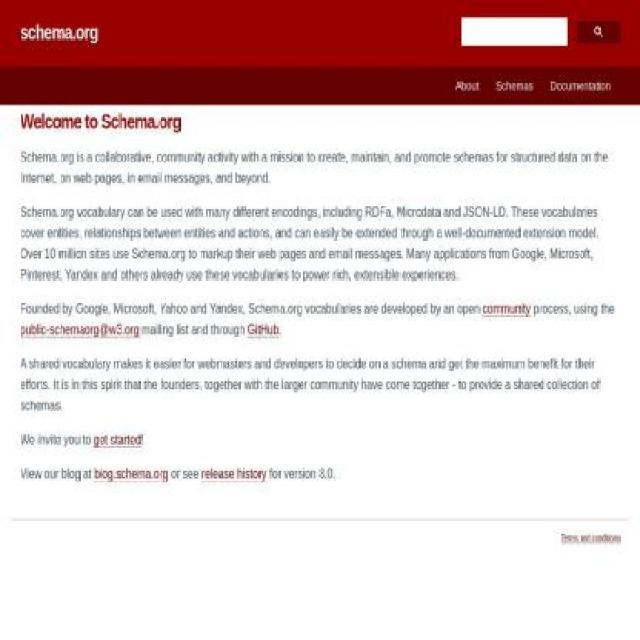button: (20, 322, 140, 338), (546, 75, 617, 100), (93, 466, 169, 482), (492, 75, 539, 100), (201, 466, 267, 482), (577, 21, 620, 44), (452, 75, 486, 100), (92, 432, 142, 448), (482, 301, 530, 317), (560, 533, 620, 544), (247, 322, 279, 338)
field: (467, 26, 559, 39)
